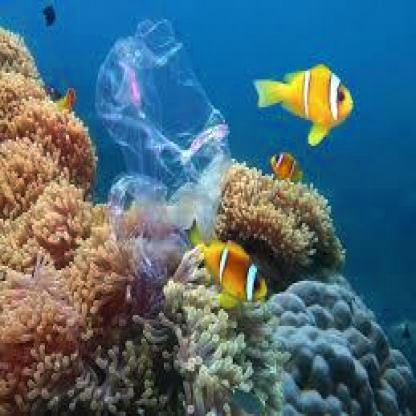pbag: (95, 17, 231, 290)
